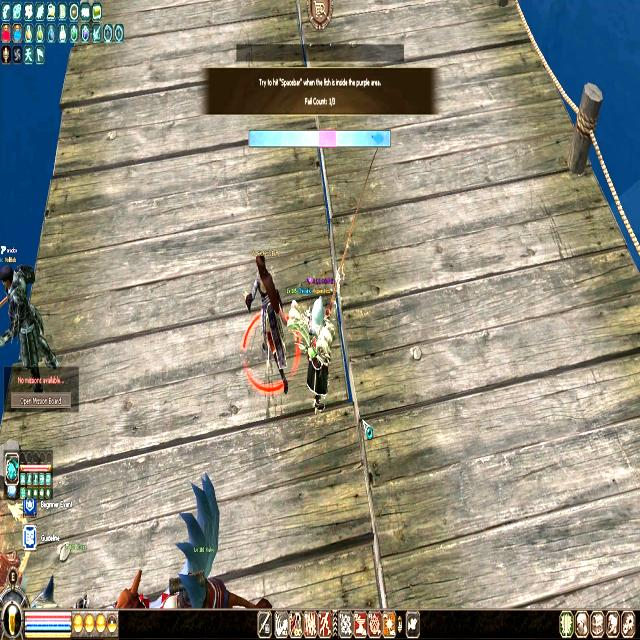fishes: (371, 131, 384, 147)
